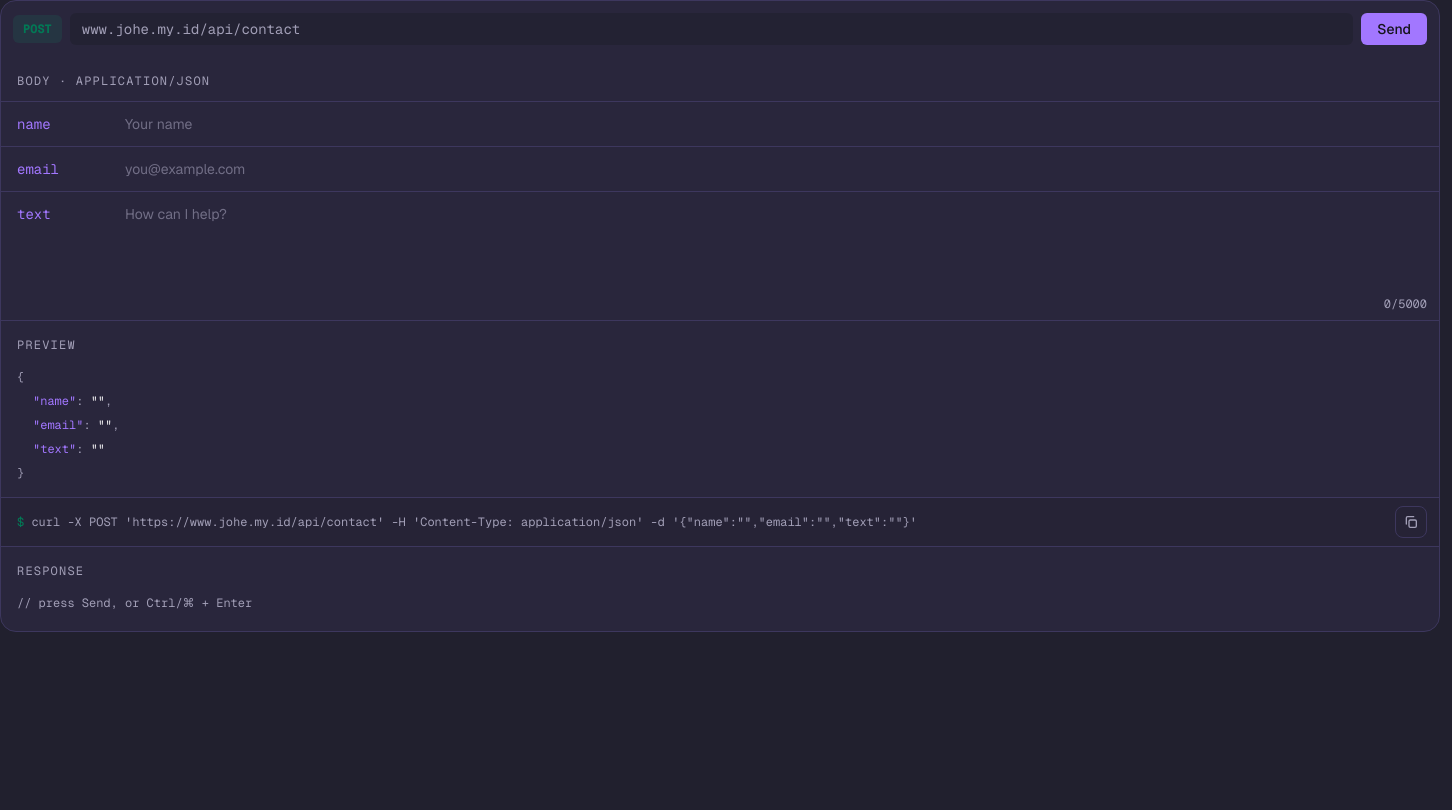
Scenario: checking before sending › explains an invalid email, and clears the message once it is fixed
The width and height of the screenshot is (1452, 810).
Type "Ada" into the field named "Your name". click: [776, 124]
box: [113,102,1439,146]
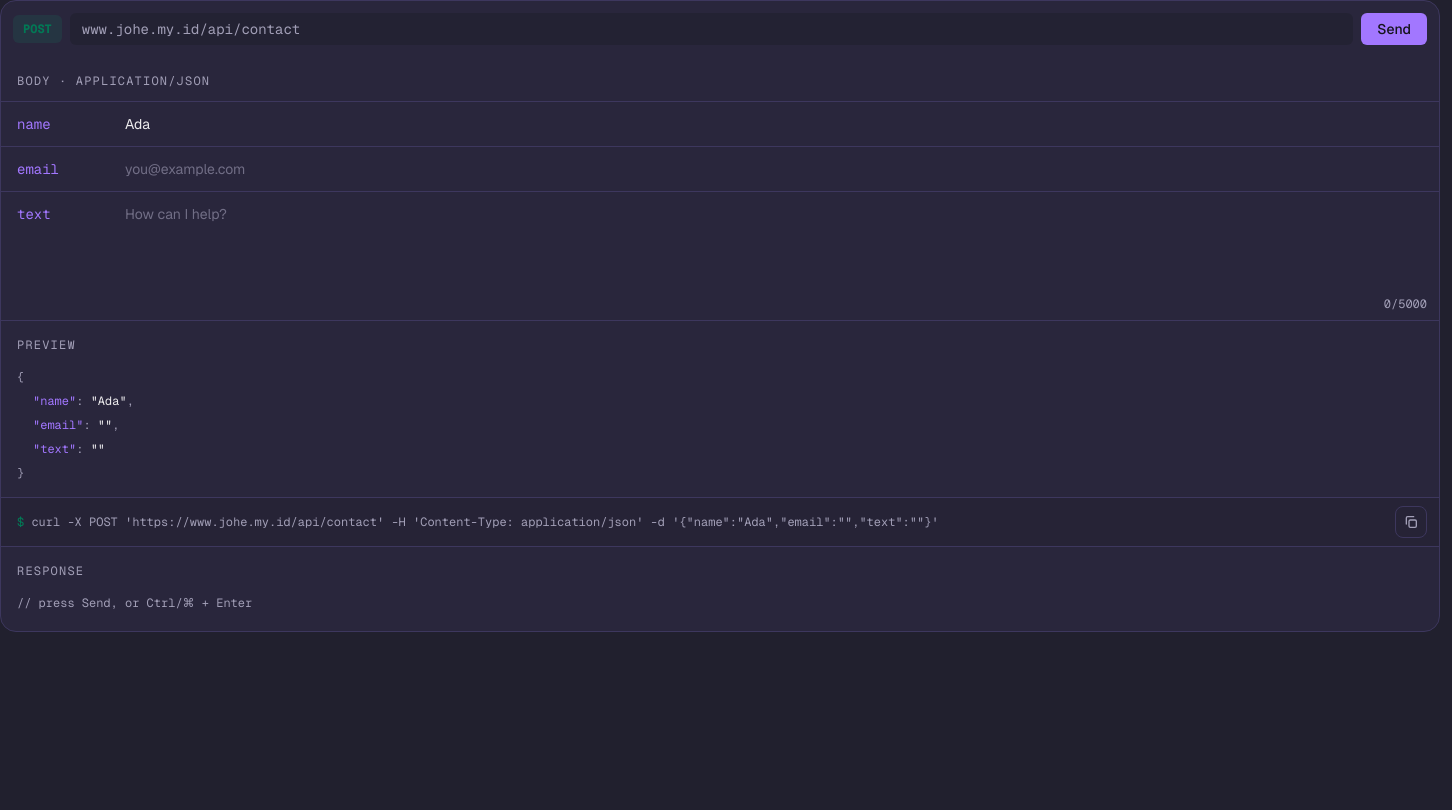
Type "ada@" into the field named "Your email". click: [776, 169]
box: [113,147,1439,191]
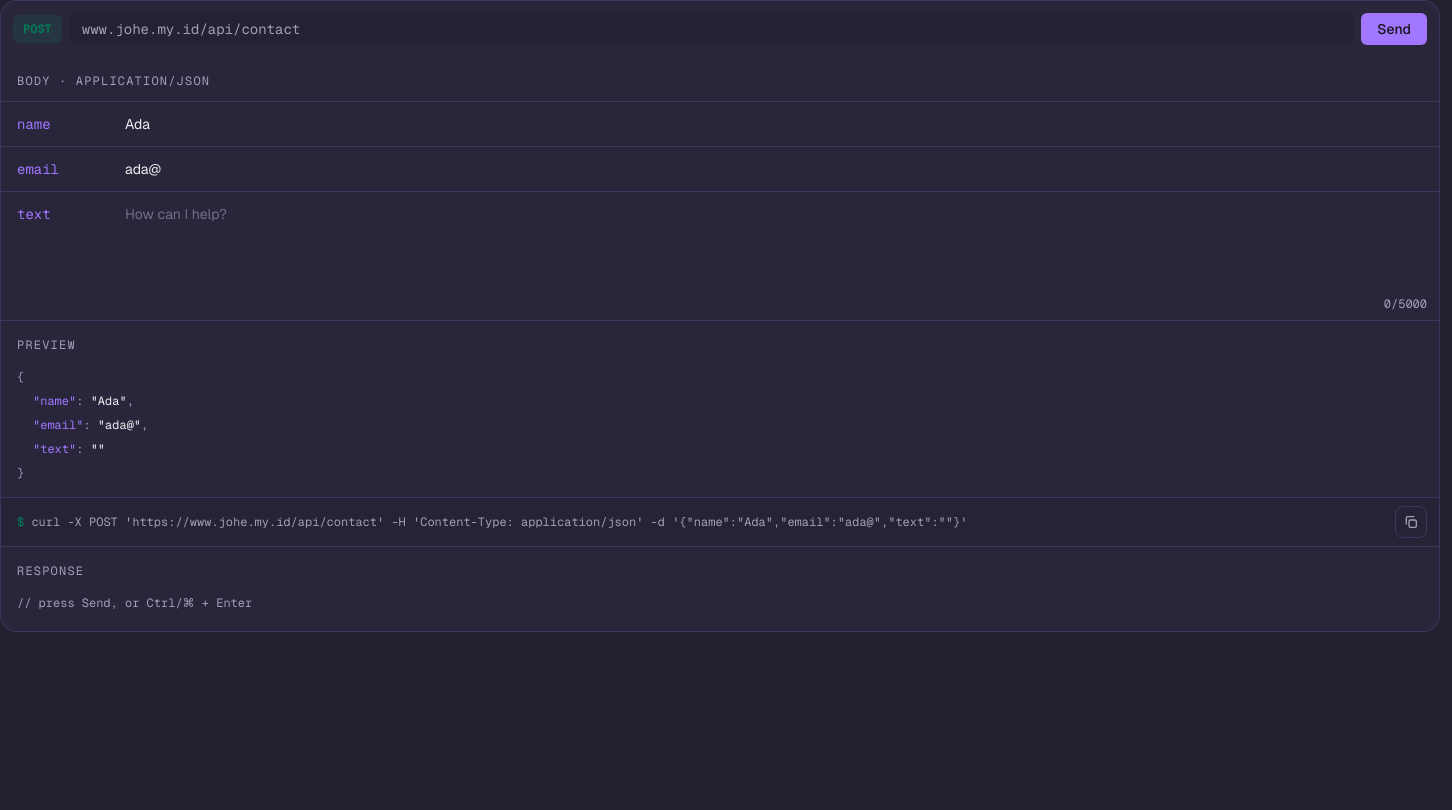
Type "Hi" into the text box named "Message text". click: [776, 244]
box: [113,192,1439,296]
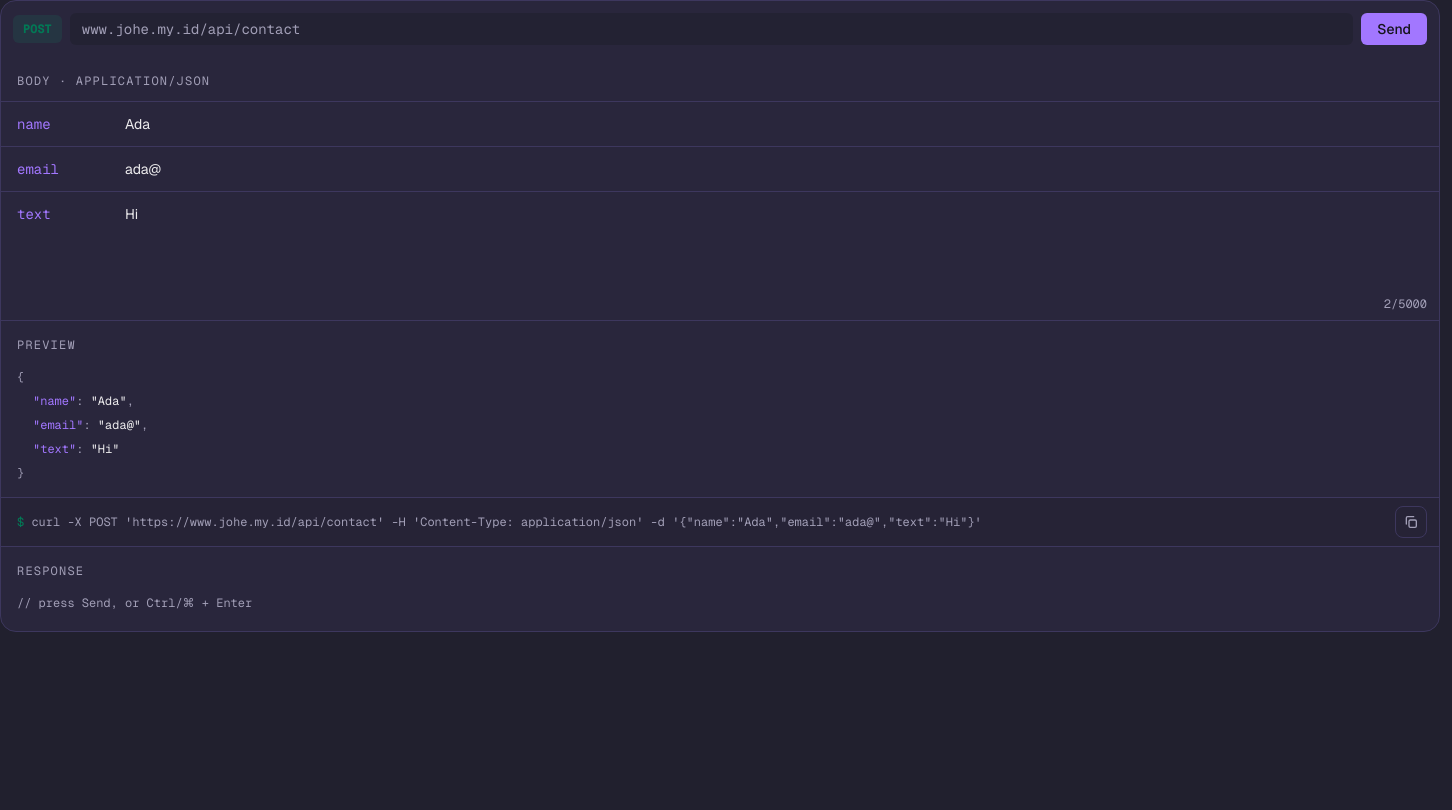
Click the button "Send". click: [1394, 29]
box: [1361,13,1427,45]
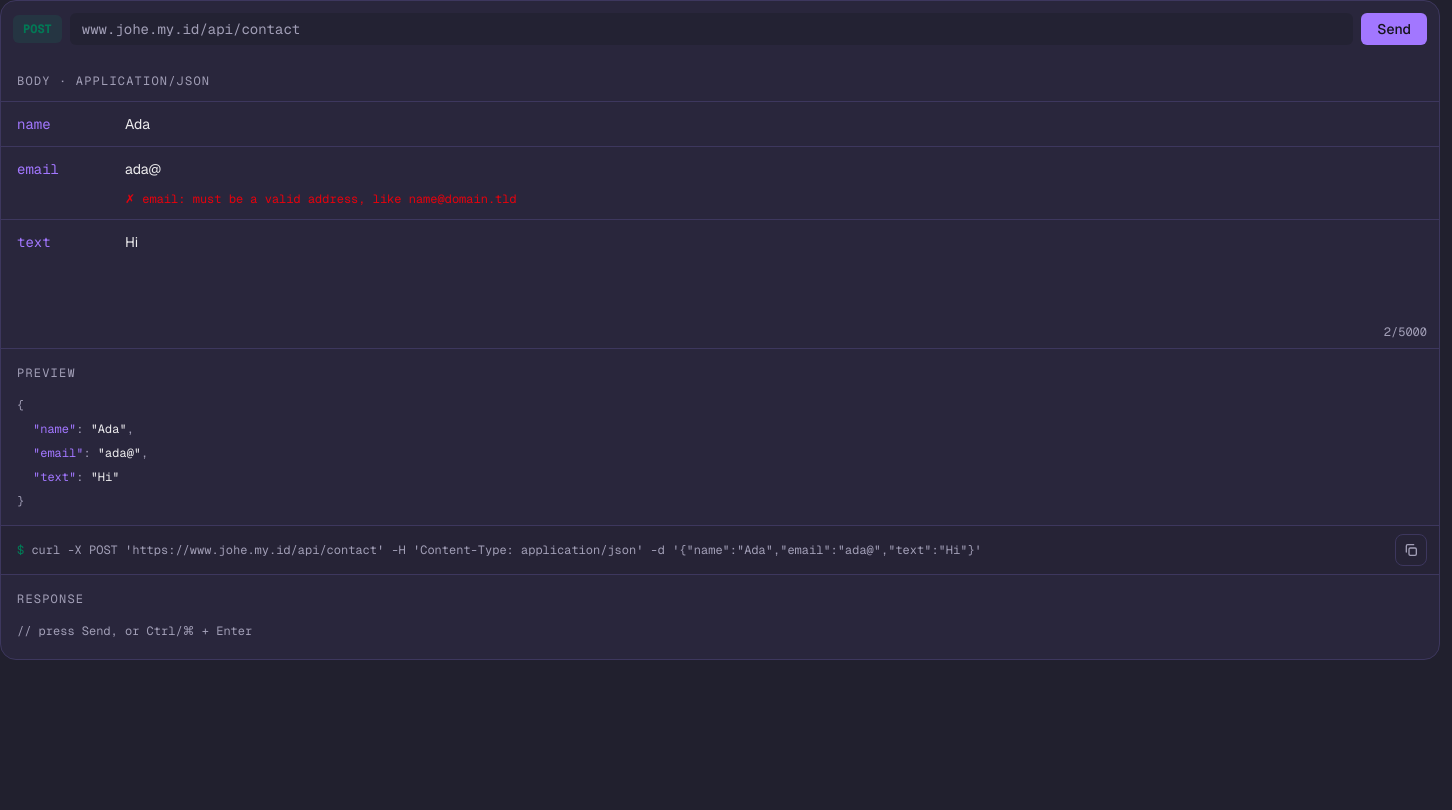
Expected: the text "✗ email: must be a valid address, like name@domain.tld" is shown, [125,191,517,207]
Type "example.com" into the field named "Your email". click: [776, 169]
box: [113,147,1439,191]
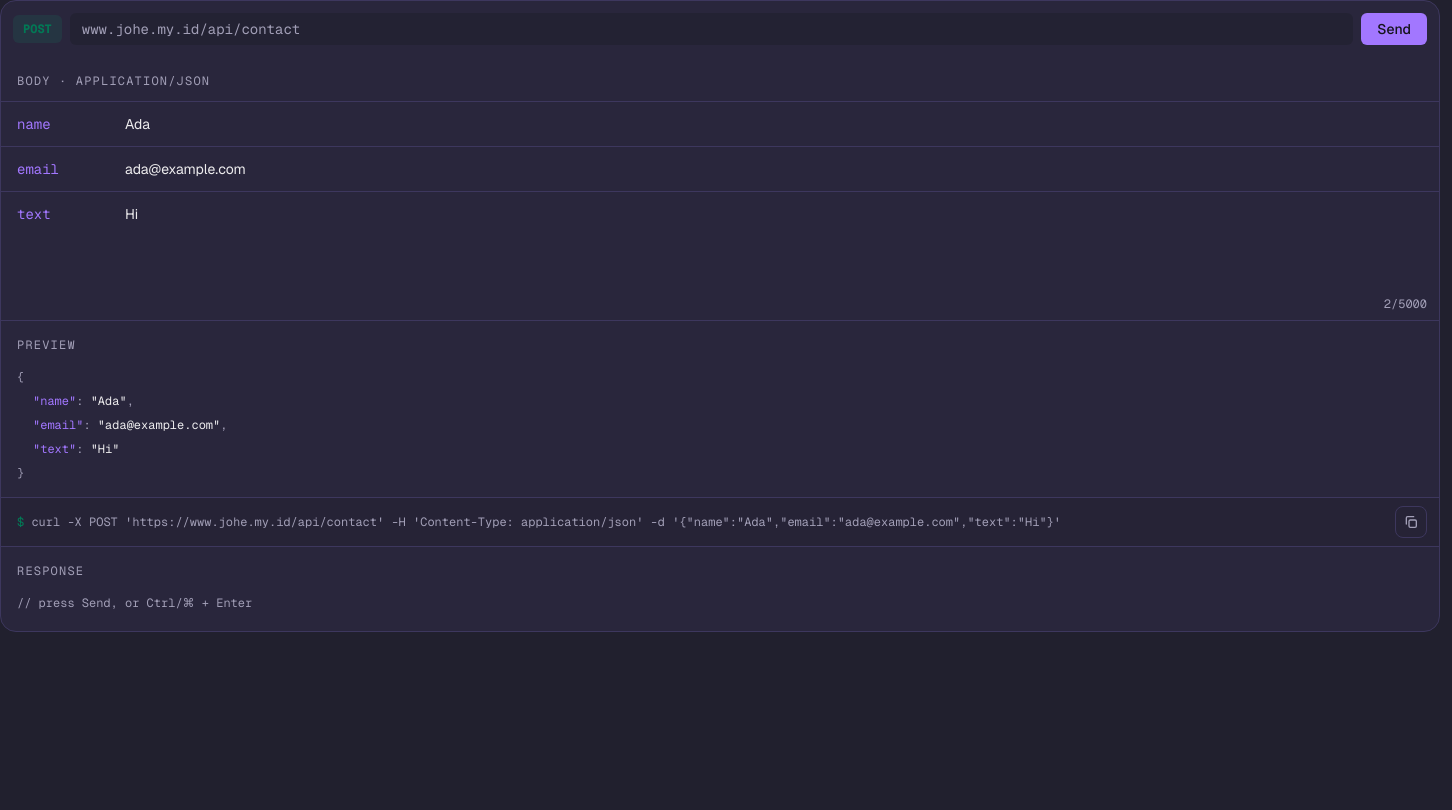
Expected: the text "✗ email" is gone
